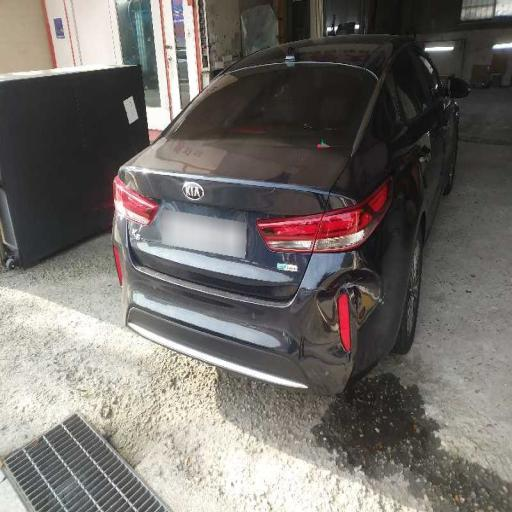dent: (114, 163, 383, 362)
